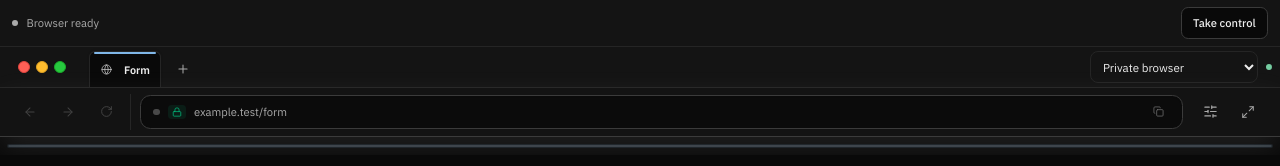
prevents duplicate ownership transfers while the browser lease is pending
Later steps or results of the test are not shown.
Click the button "Take control". click: (1224, 23)
box: [1181,7,1268,39]
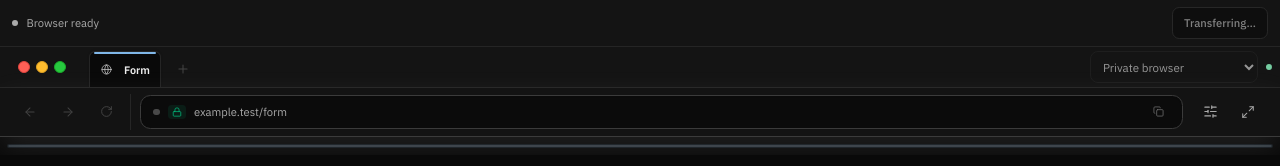
Click the button named "Take control". click: (1220, 23)
box: [1172,7,1268,39]
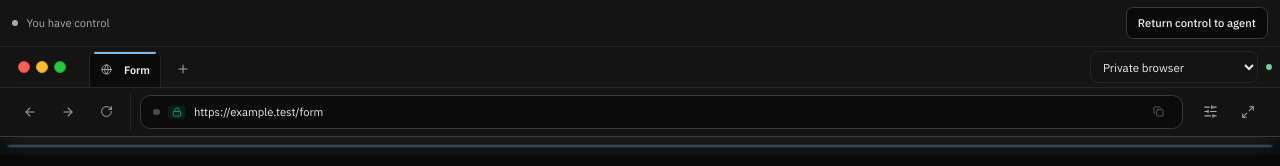
expect the button "Return control to agent" is enabled: met, box [1126,7,1268,39]
